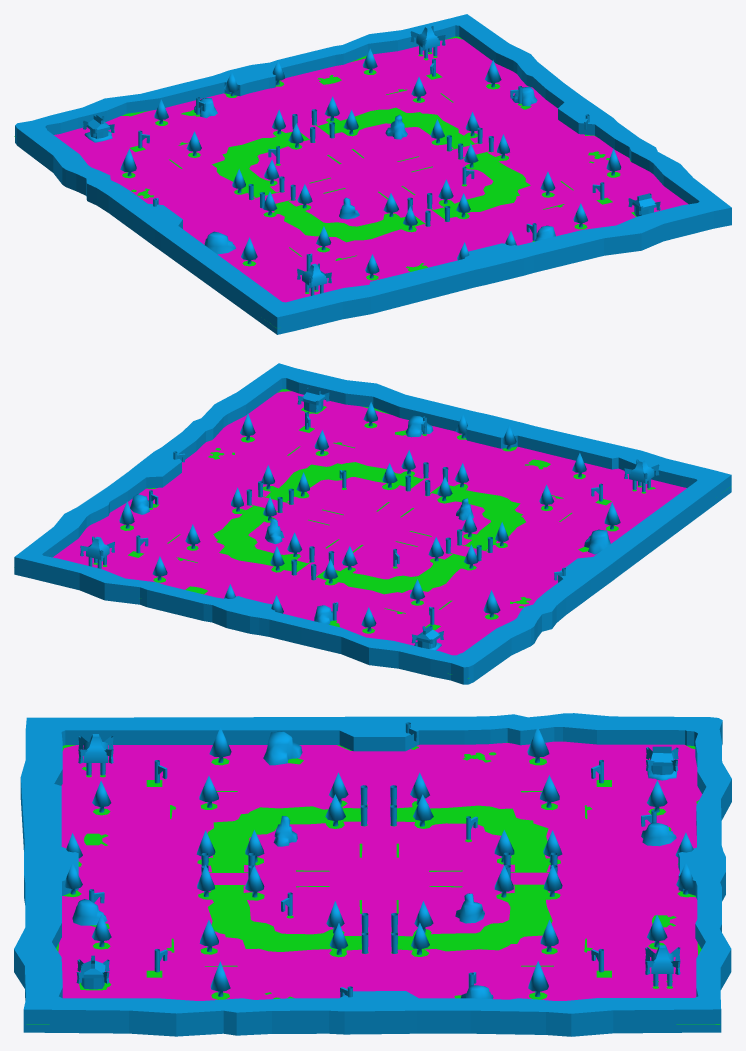
File: sf001_zaw.FBX
3 views of the same model, one above another, from view 1: azimuth 30°, elevation 25°; view 2: azimuth 150°, elevation 25°; view 3: azimuth 270°, elevation 25° (orthographic). The views are drawn at different scales.
Visible parts, largest first — view 1: fight_zadb, fight_zazd, fight_zazd02; view 2: fight_zadb, fight_zazd, fight_zazd02; view 3: fight_zadb, fight_zazd, fight_zazd02.
Part boxes in pixels (x1,y1,x2,y2): fight_zadb: (54,38,688,302); fight_zazd: (15,14,731,334); fight_zazd02: (14,36,636,327); fight_zadb: (53,391,686,655); fight_zazd: (14,363,731,684); fight_zazd02: (93,389,731,678); fight_zadb: (58,741,702,1000); fight_zazd: (14,713,731,1036); fight_zazd02: (26,742,720,1024).
Size of the model in its own units: 85.33 by 6.15 by 86.13.
